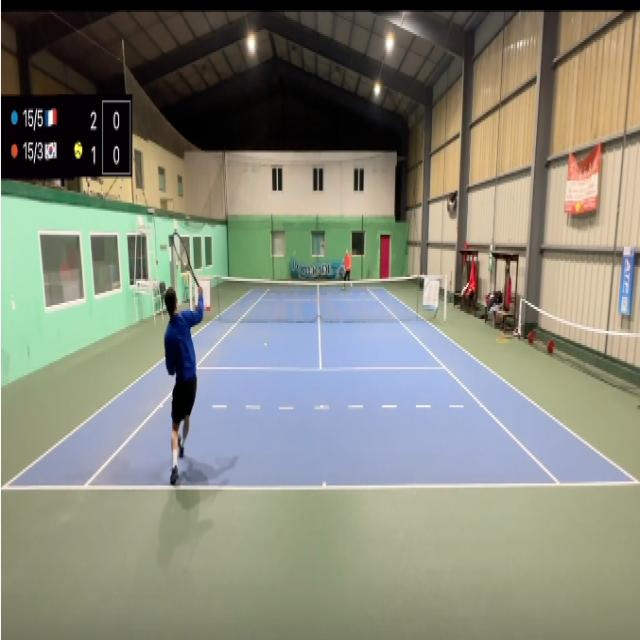ball: (264, 343, 267, 348)
